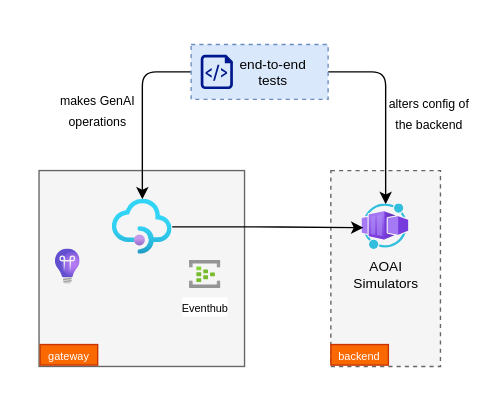
The diagram is 499 pixels wide and 416 high, and some of its shapes have lost their labels. Each missing label, with the box of its shape:
APIM: (112, 199, 172, 254)
Application Insights: (55, 249, 80, 284)
